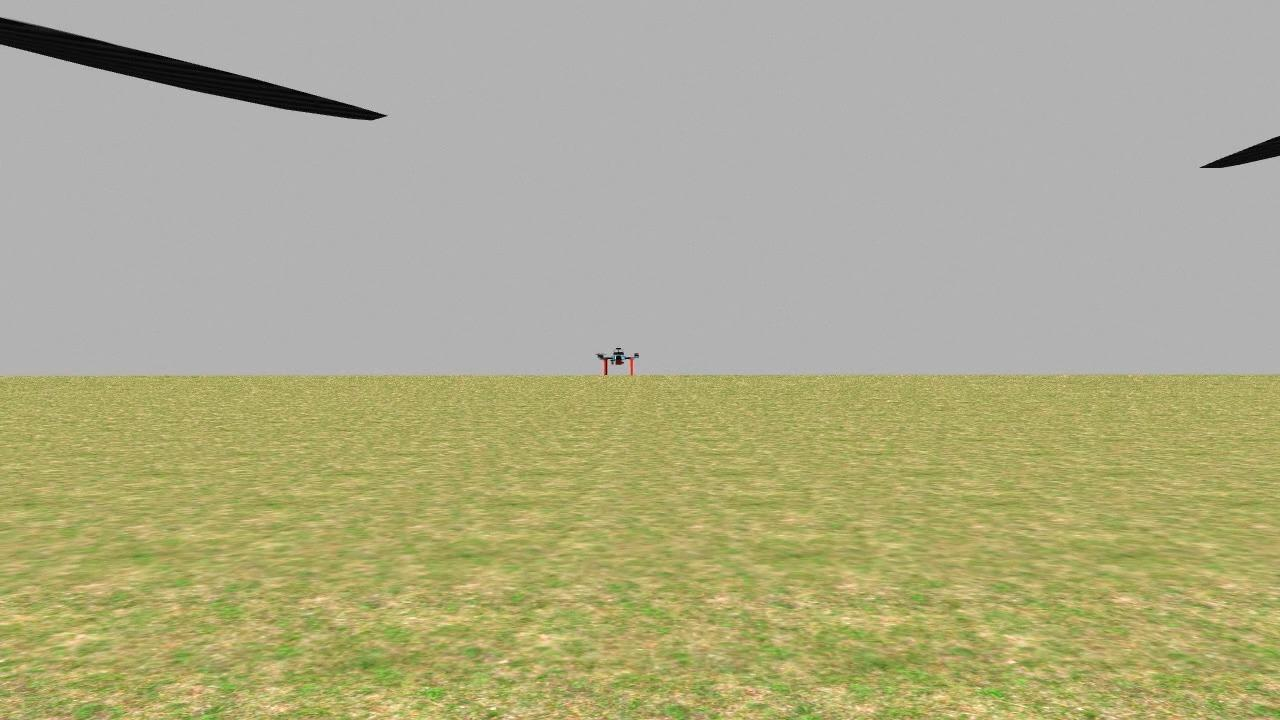UAV: (580, 338, 656, 384)
